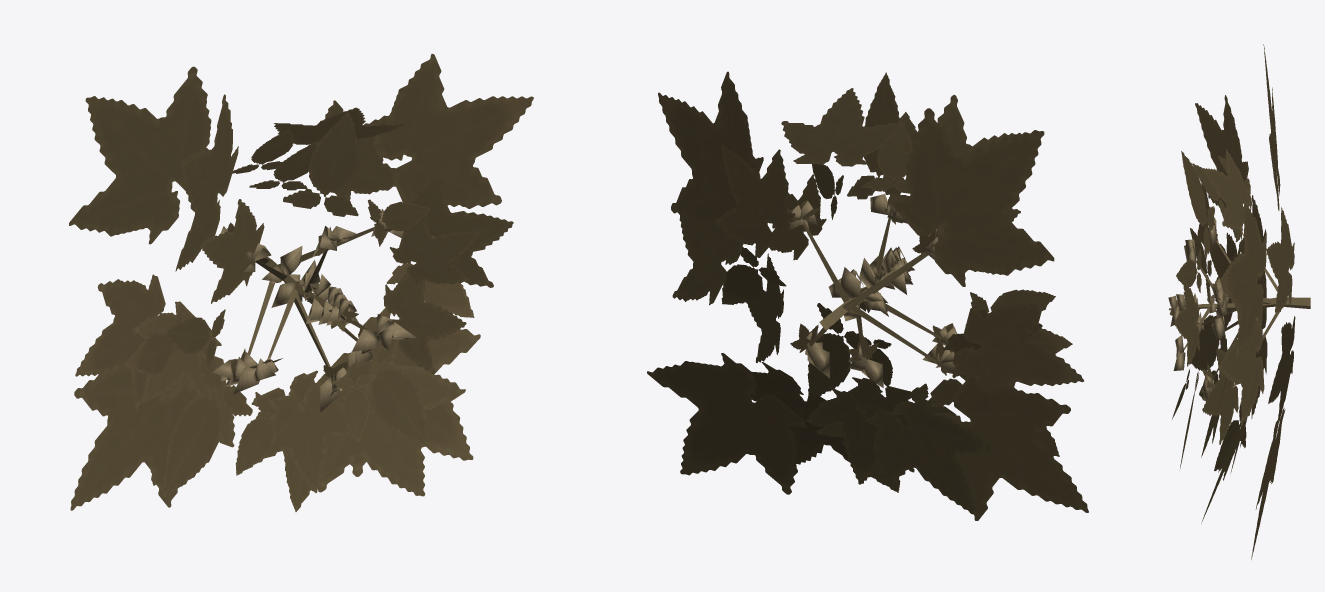
Rendered from p_male_afghan_ripe_c4_cards.obj.
The picture shows the model from 3 angles, left to right: view 1: azimuth 30°, elevation 25°; view 2: azimuth 150°, elevation 25°; view 3: azimuth 270°, elevation 25°; orthographic projection. The views are drawn at different scales.
Size of the model in its own units: 1.28 by 1.29 by 0.357.
Materials: 1 (1 with a texture image).
